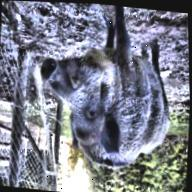boar: (30, 1, 190, 184)
